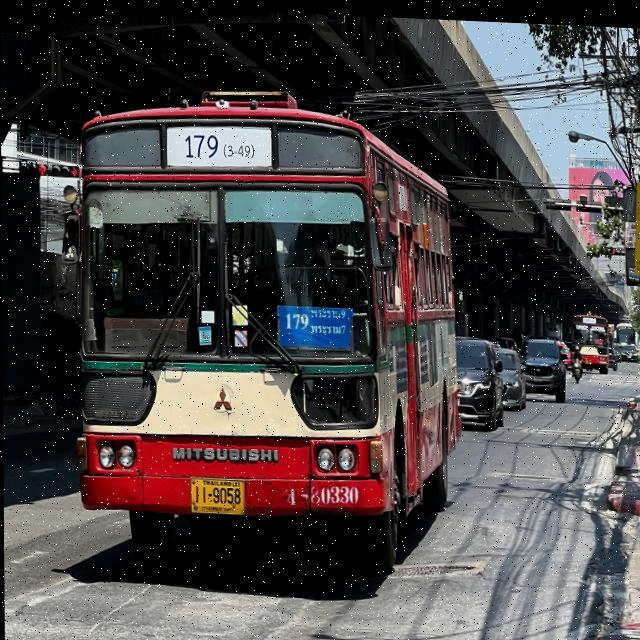BMTA-bus: (64, 70, 465, 601), (568, 300, 609, 373)
Bus-Line-Number: (164, 126, 274, 168)
Destination-Sign-Normal: (275, 300, 353, 349)
